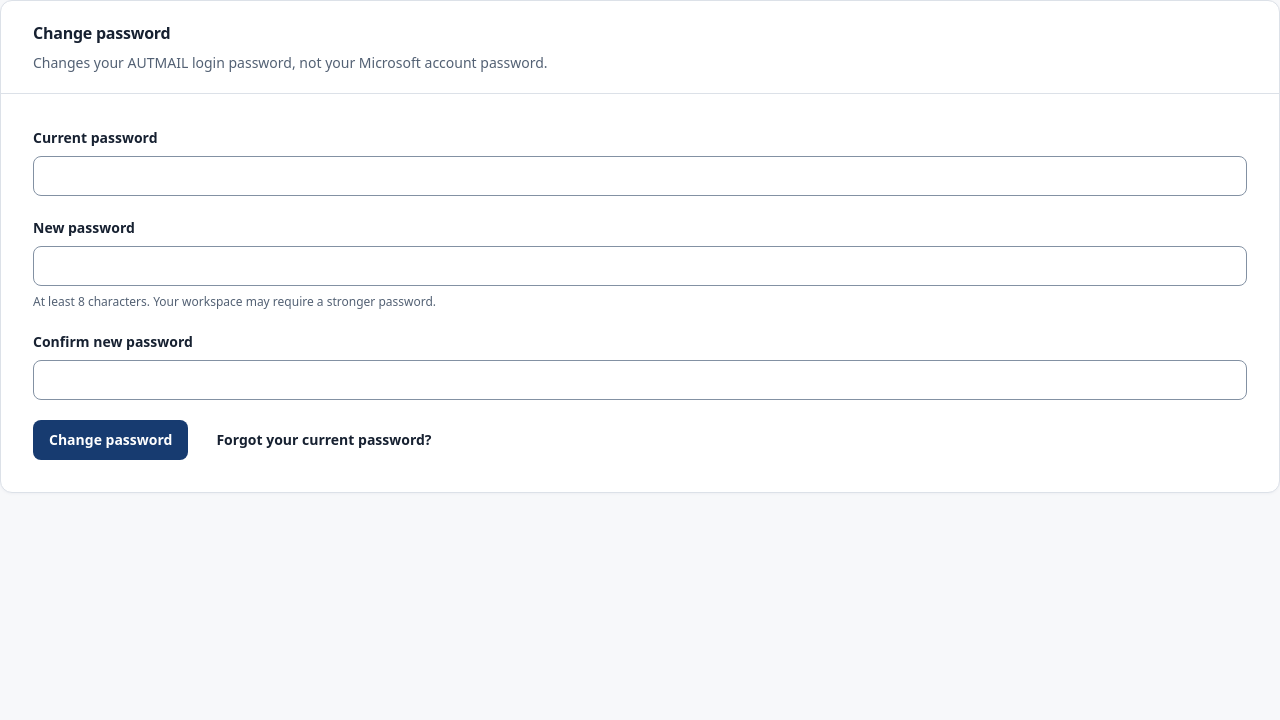
Test: account password change › never updates when current-password verification fails
Step 1. Type "old-password" into the password field labelled "Current password" → {"x": 640, "y": 176}, box [33, 156, 1247, 196]
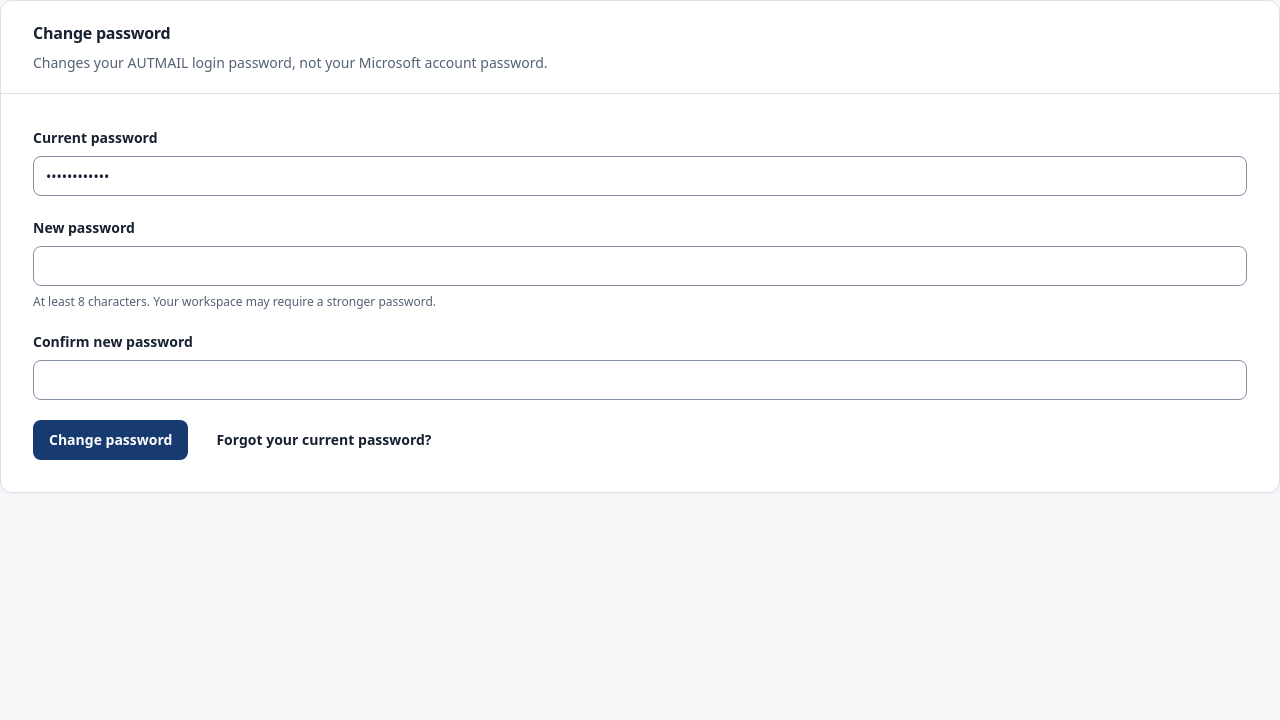
Step 2. Type "new-password" into the password field labelled "New password" → {"x": 640, "y": 266}, box [33, 246, 1247, 286]
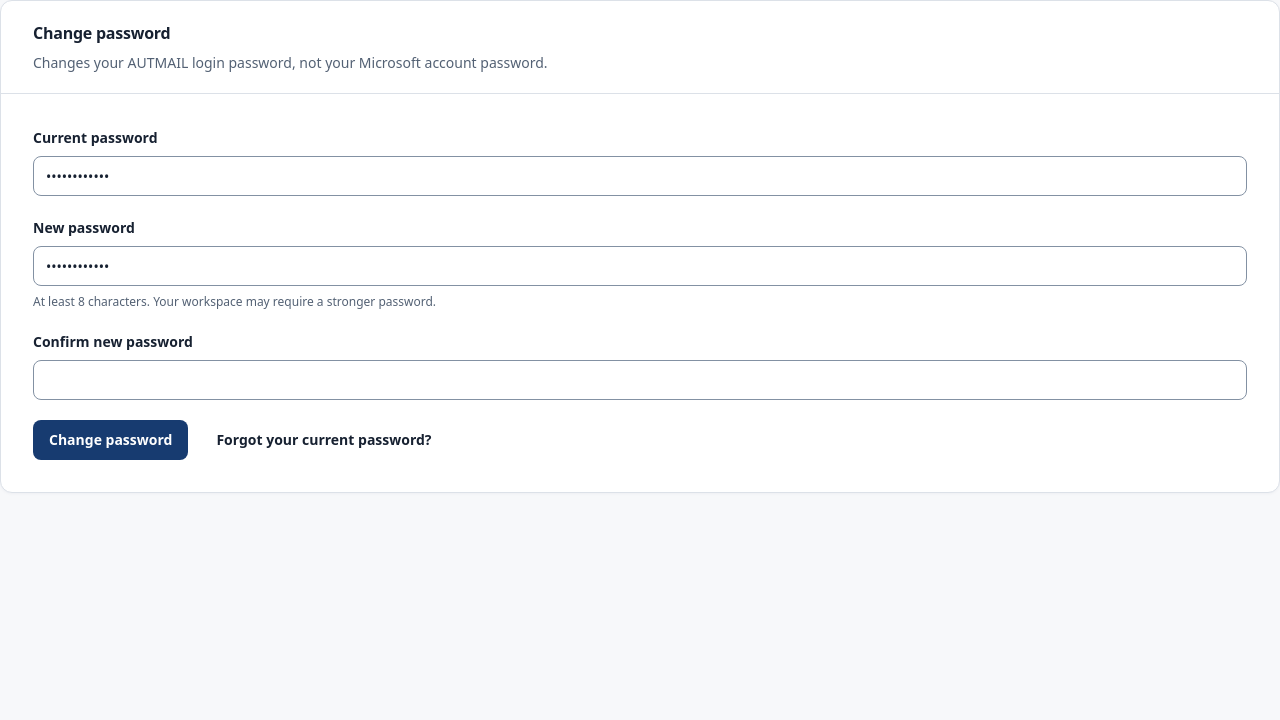
Step 3. Type "new-password" into the password field labelled "Confirm new password" → {"x": 640, "y": 380}, box [33, 360, 1247, 400]
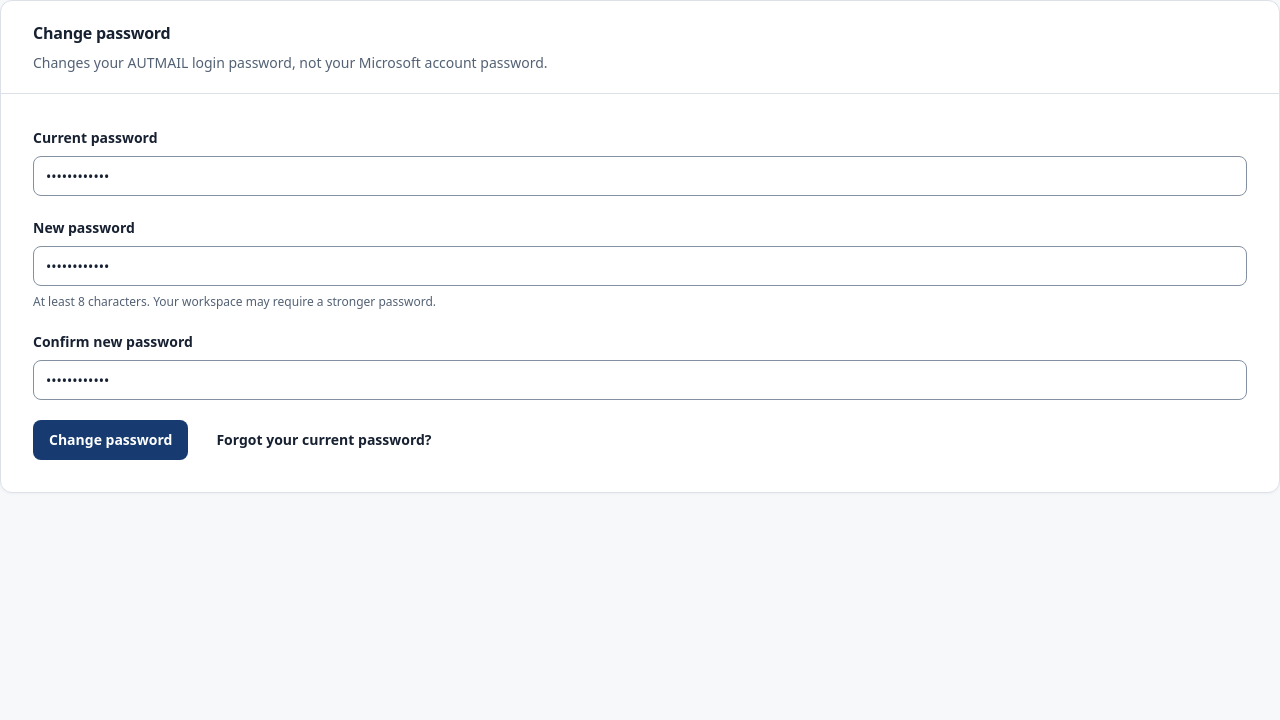
Step 4. Click the button "Change password" → {"x": 111, "y": 440}, box [33, 420, 188, 460]
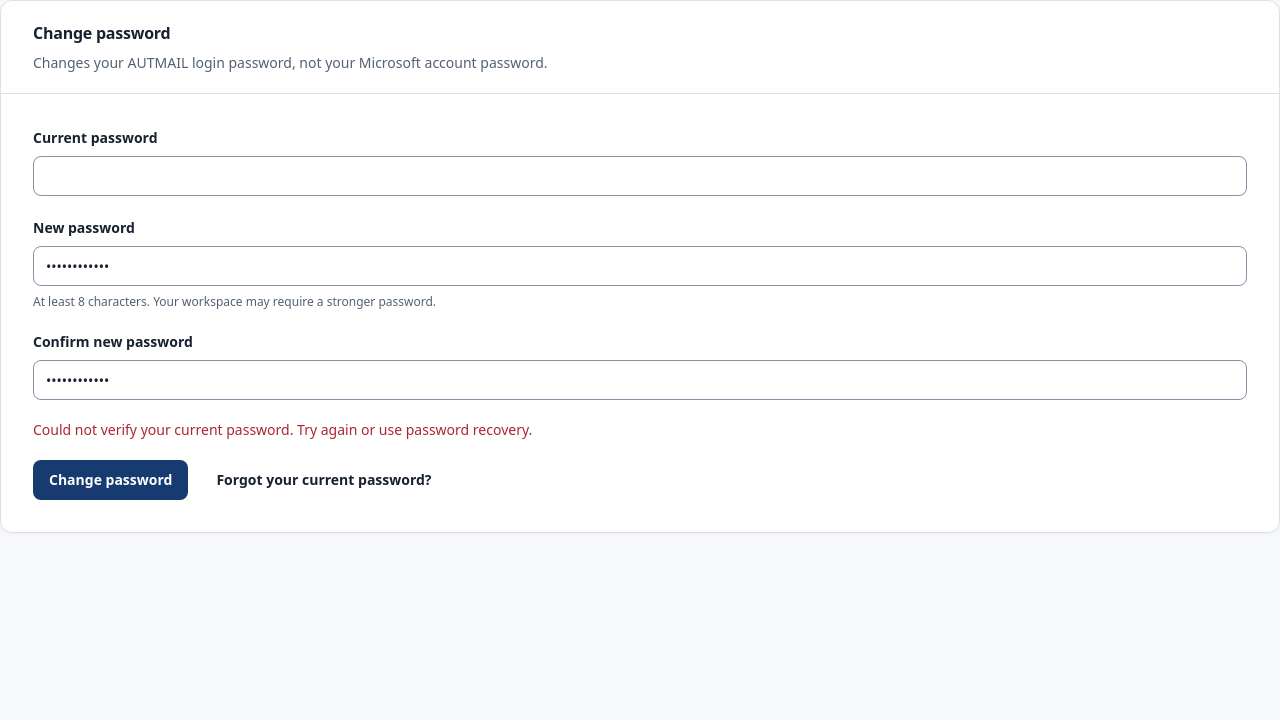
Now the message "Could not verify your current password. Try again or use password recovery." is shown, box [33, 420, 532, 439]
